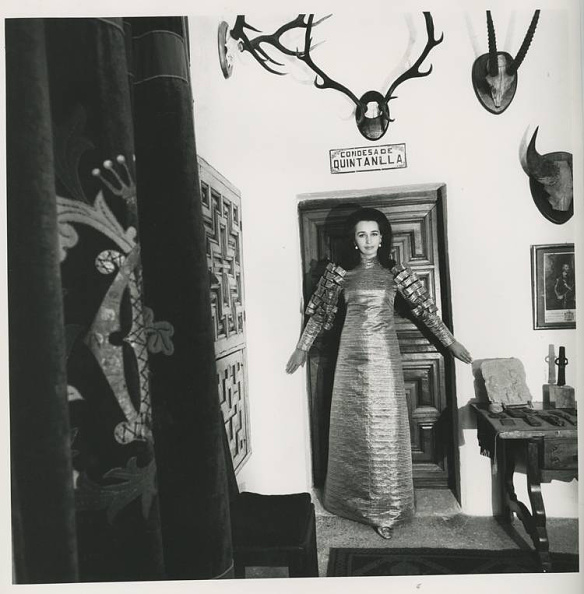em pe: (295, 182, 449, 548)
